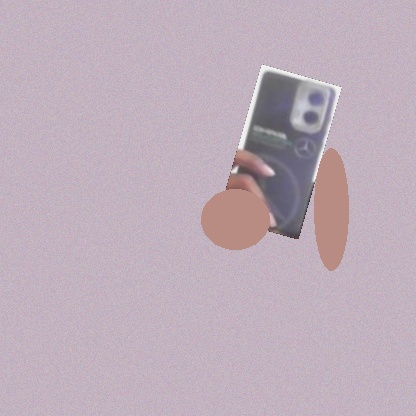cell_phone: (218, 64, 342, 239)
